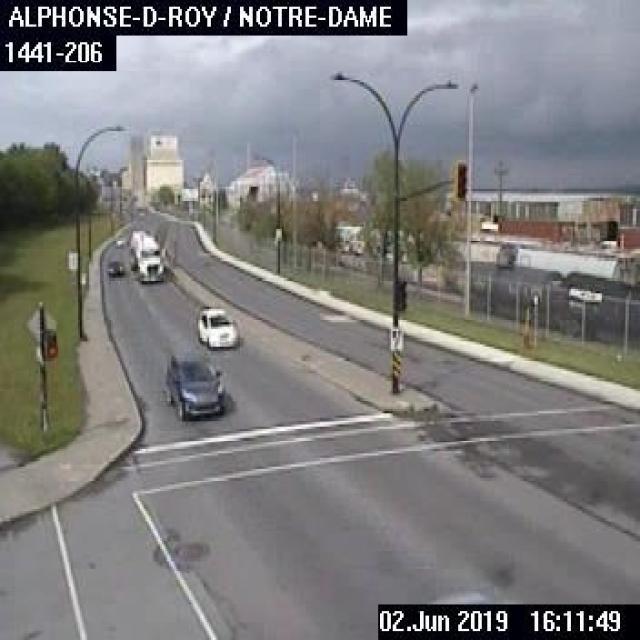vehicle: (164, 351, 224, 418), (129, 229, 168, 284), (192, 304, 238, 350), (105, 260, 122, 276), (113, 232, 127, 245)
